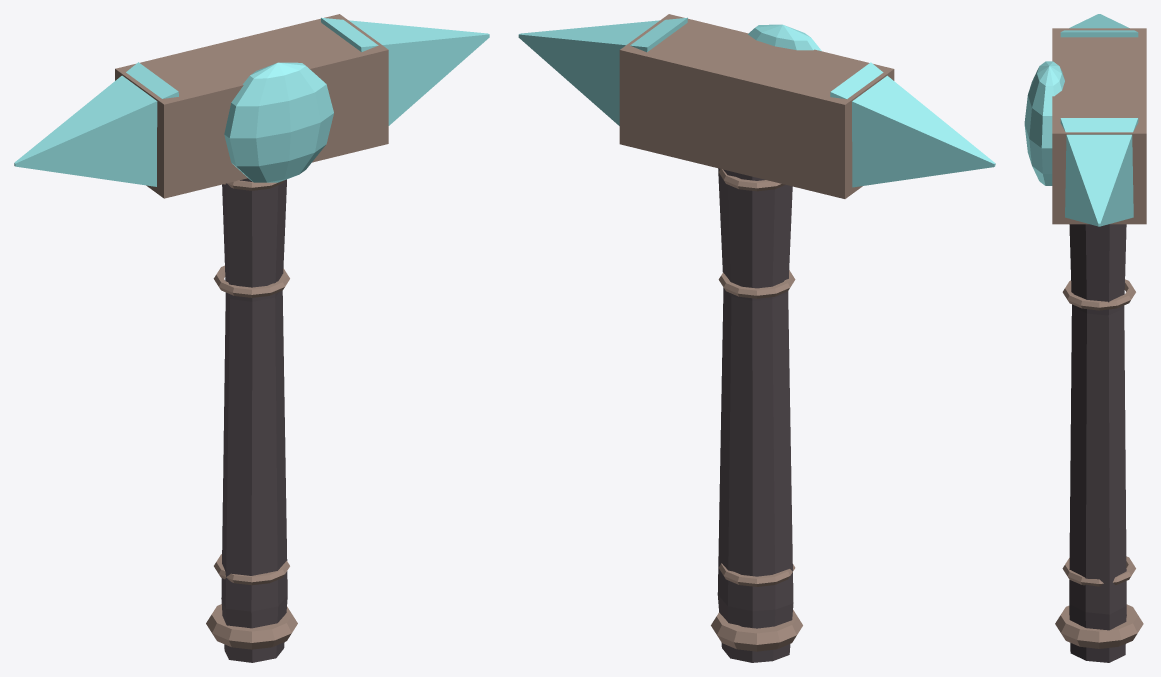
The model's file is BH_PICK_P06_Presa_Espectral_V01.glb.
The picture shows the model from 3 angles, left to right: view 1: azimuth 30°, elevation 25°; view 2: azimuth 150°, elevation 25°; view 3: azimuth 270°, elevation 25°; orthographic projection. The views are drawn at different scales.
Parts seen in each view (by area): view 1: Handle | shaped shaft.001, Head | main crossbar.001, Head | mining tooth L.001, Core | socket gem.001, Head | mining tooth R.001, Handle | pommel.001, Handle | binding 3.001, Handle | binding 1.001; view 2: Head | main crossbar.001, Handle | shaped shaft.001, Head | mining tooth L.001, Head | mining tooth R.001, Handle | pommel.001, Core | socket gem.001, Handle | binding 3.001, Handle | binding 1.001; view 3: Handle | shaped shaft.001, Head | main crossbar.001, Head | mining tooth R.001, Core | socket gem.001, Handle | pommel.001, Head | mining tooth L.001, Handle | binding 3.001, Handle | binding 1.001.
Boxes of the visible parts, <box> form: Handle | shaped shaft.001: <box>221,178,287,662</box>; Head | main crossbar.001: <box>115,14,388,198</box>; Head | mining tooth L.001: <box>14,62,178,186</box>; Core | socket gem.001: <box>224,62,333,182</box>; Head | mining tooth R.001: <box>321,17,489,125</box>; Handle | pommel.001: <box>206,604,297,649</box>; Handle | binding 3.001: <box>213,265,289,297</box>; Handle | binding 1.001: <box>214,554,289,585</box>; Head | main crossbar.001: <box>619,14,894,198</box>; Handle | shaped shaft.001: <box>717,168,793,662</box>; Head | mining tooth L.001: <box>830,62,995,187</box>; Head | mining tooth R.001: <box>518,17,687,125</box>; Handle | pommel.001: <box>711,610,802,651</box>; Core | socket gem.001: <box>748,24,821,51</box>; Handle | binding 3.001: <box>718,270,795,298</box>; Handle | binding 1.001: <box>718,563,795,586</box>; Handle | shaped shaft.001: <box>1069,224,1126,662</box>; Head | main crossbar.001: <box>1052,28,1146,224</box>; Head | mining tooth R.001: <box>1060,118,1138,226</box>; Core | socket gem.001: <box>1024,61,1064,185</box>; Handle | pommel.001: <box>1055,604,1143,648</box>; Head | mining tooth L.001: <box>1060,14,1138,37</box>; Handle | binding 3.001: <box>1062,279,1135,310</box>; Handle | binding 1.001: <box>1062,556,1135,586</box>.
Size of the model in its own units: 1.9 by 2.32 by 0.44.
